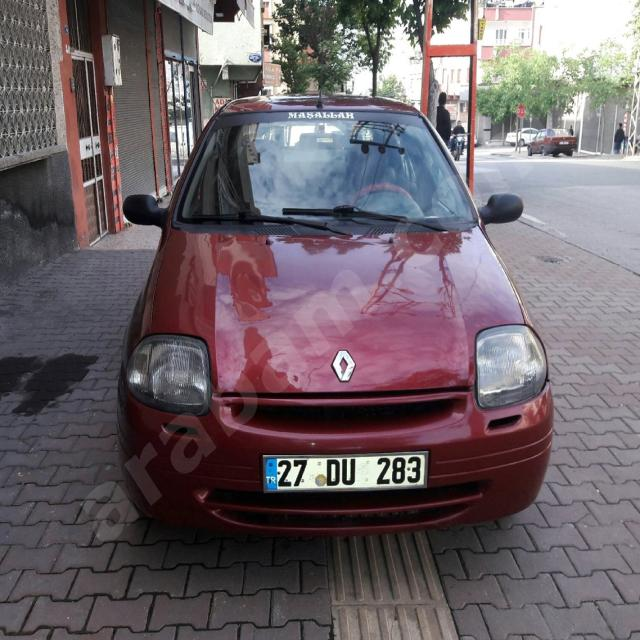license_plate: (265, 454, 426, 489)
